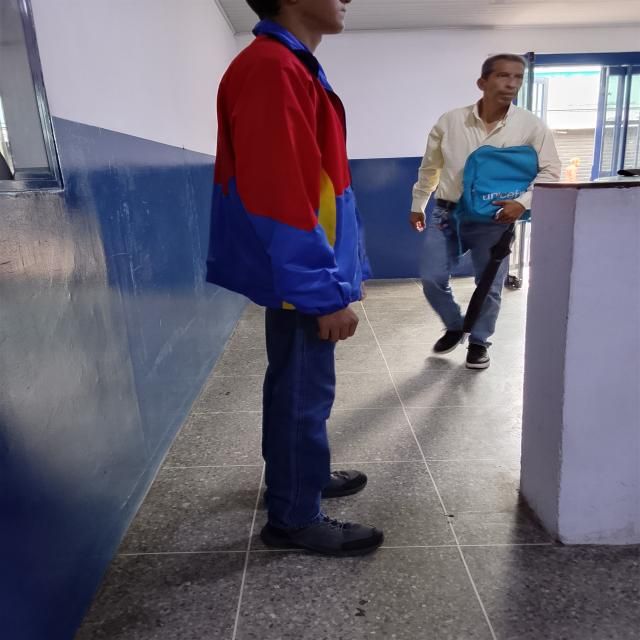chaqueta_unefa: (203, 20, 374, 318)
